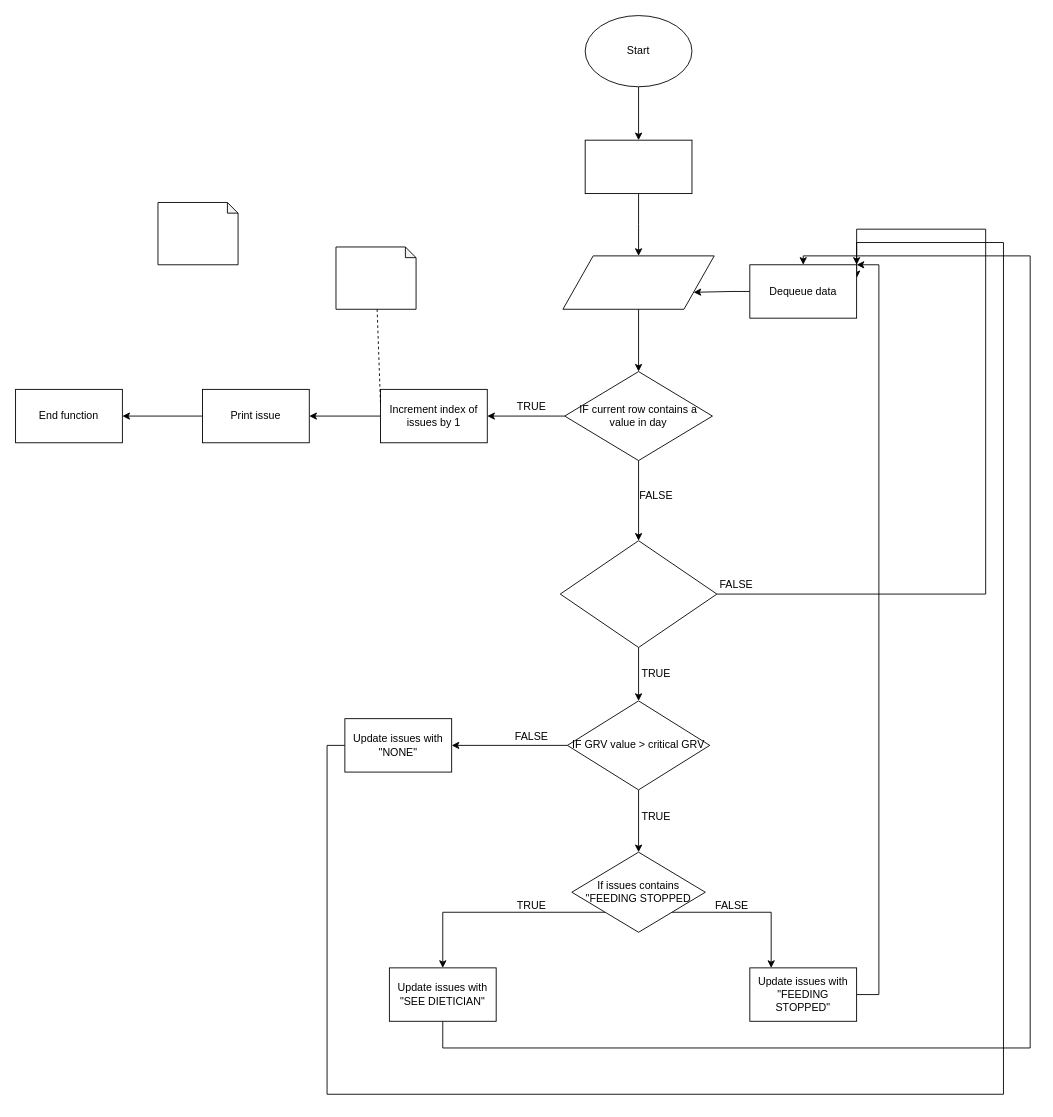
The diagram is 1053 pixels wide and 1117 high, and some of its shapes have lost their labels. The centre of each missing label's shape, as x and y in pixels:
Ensuring that we edit the issue for the appropriate day.: the point at 375,277
Get the next row from patient's data: the point at 638,282
If row contains a GRV value: the point at 638,593
Just put it in a for loop: the point at 197,233
SET critical GRV = (5 * weight): the point at 638,166
